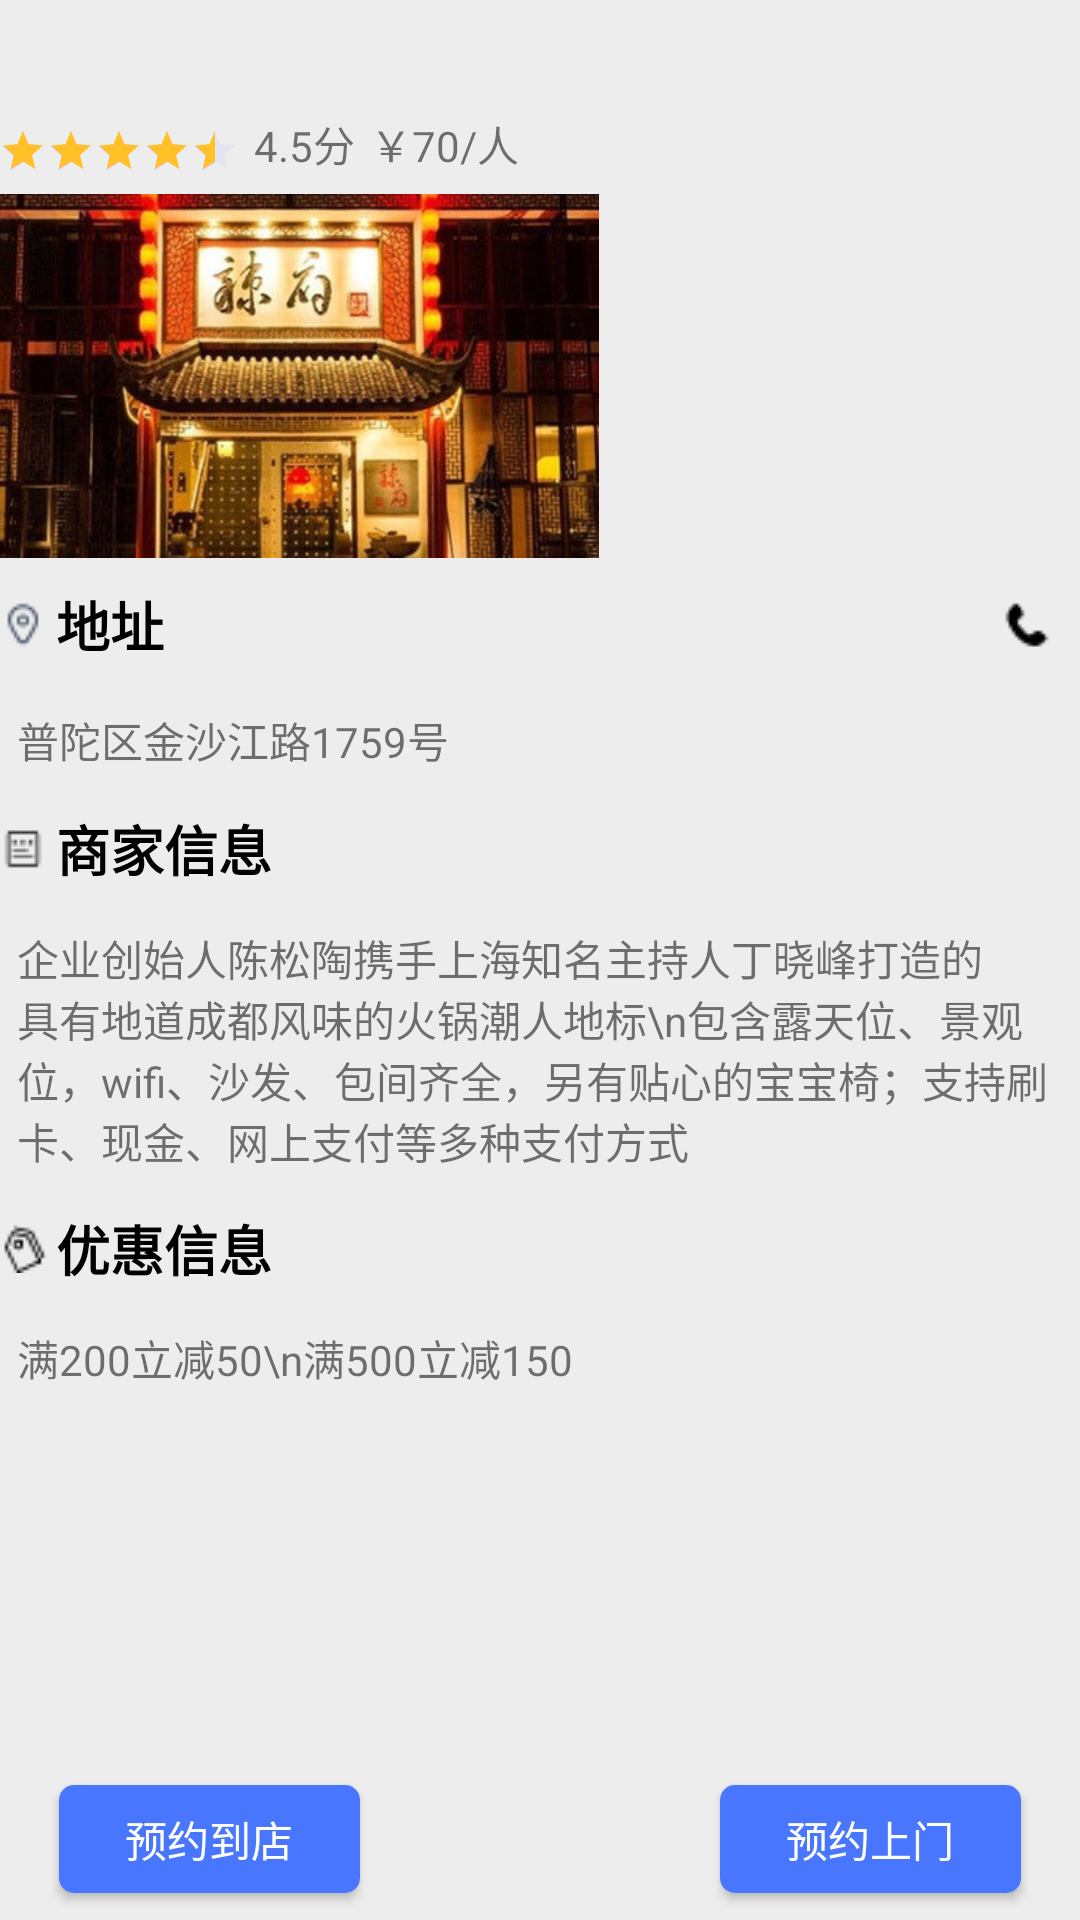

Icons on this 1080px×1920px Android screen, each with the point to tap as point (x, y):
bonus: point (24, 1249)
phone: point (1027, 625)
